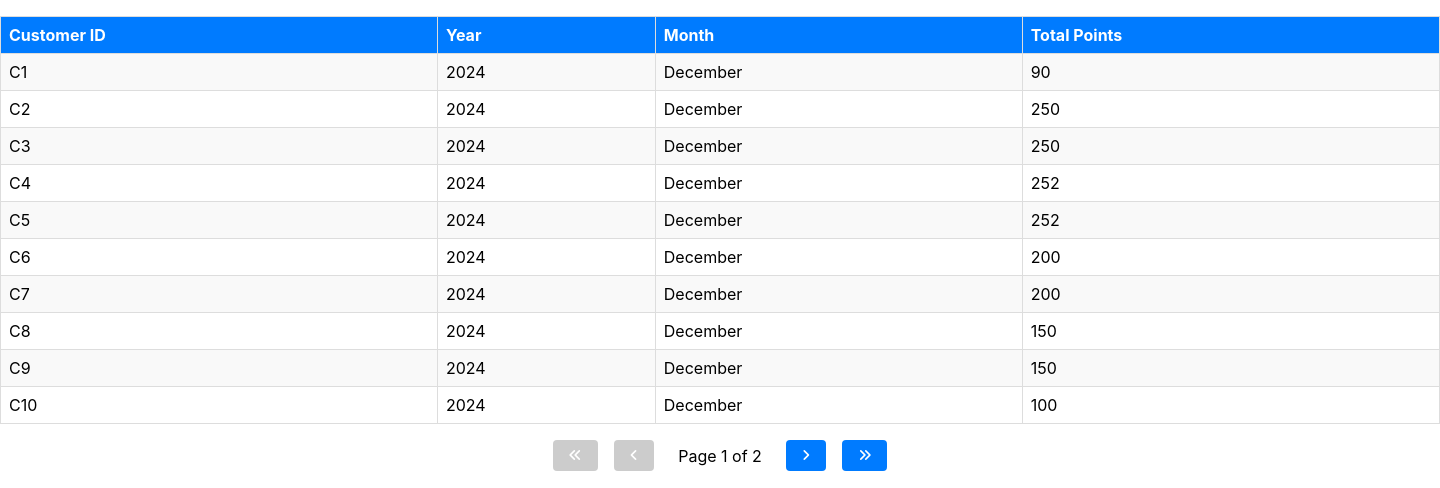
Test: RewardsTable Pagination › Previous button should go to the previous page
This screenshot has width=1440, height=488.
Click the button named "Next" at {"x": 806, "y": 456}, box [786,440,826,471]
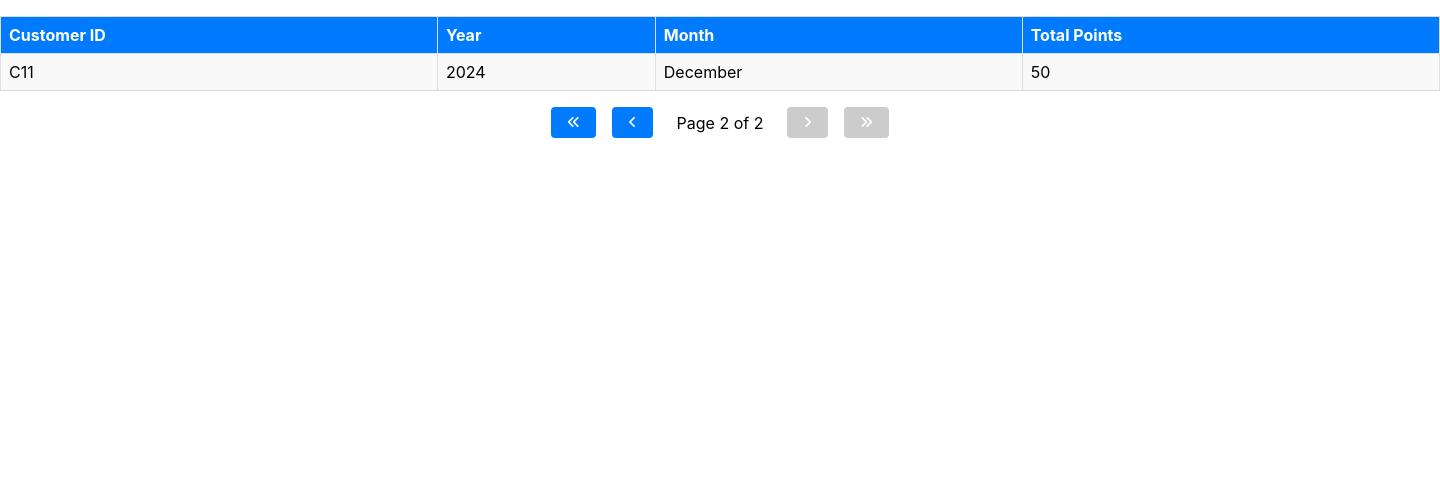
Expected: the text "Page 2 of 2" is shown, [676,112,763,132]
Click the button named "Previous" at {"x": 632, "y": 122}, box [612,107,652,138]
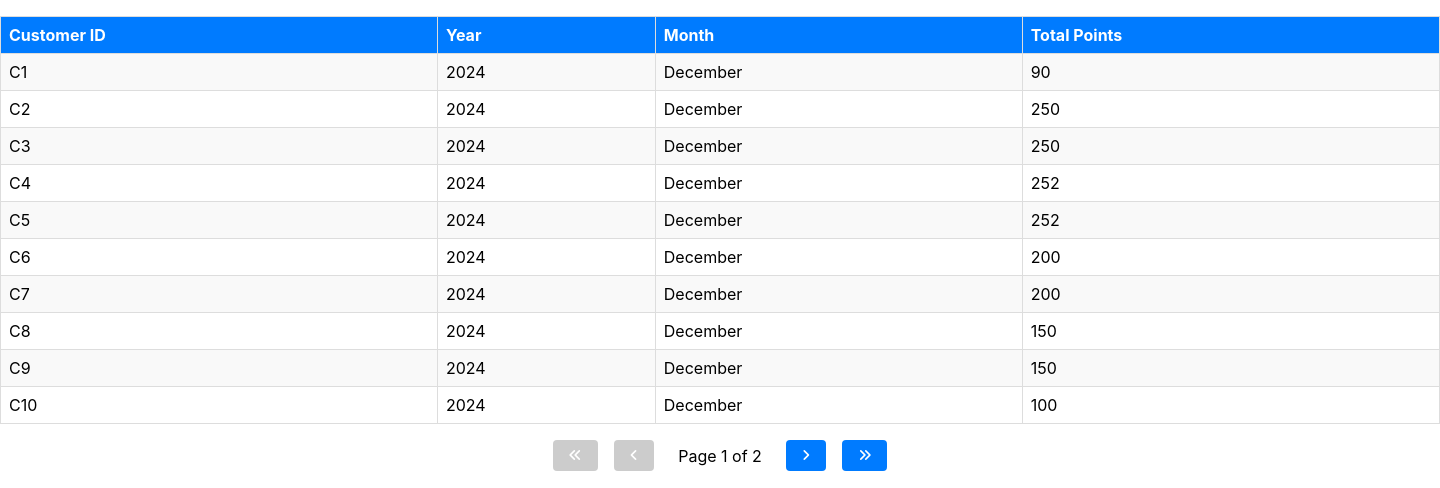
Expected: the text "Page 1 of 2" is shown, [678,446,762,466]
